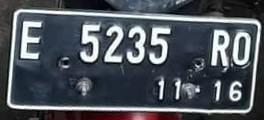clone-license-plate: (8, 7, 257, 114)
